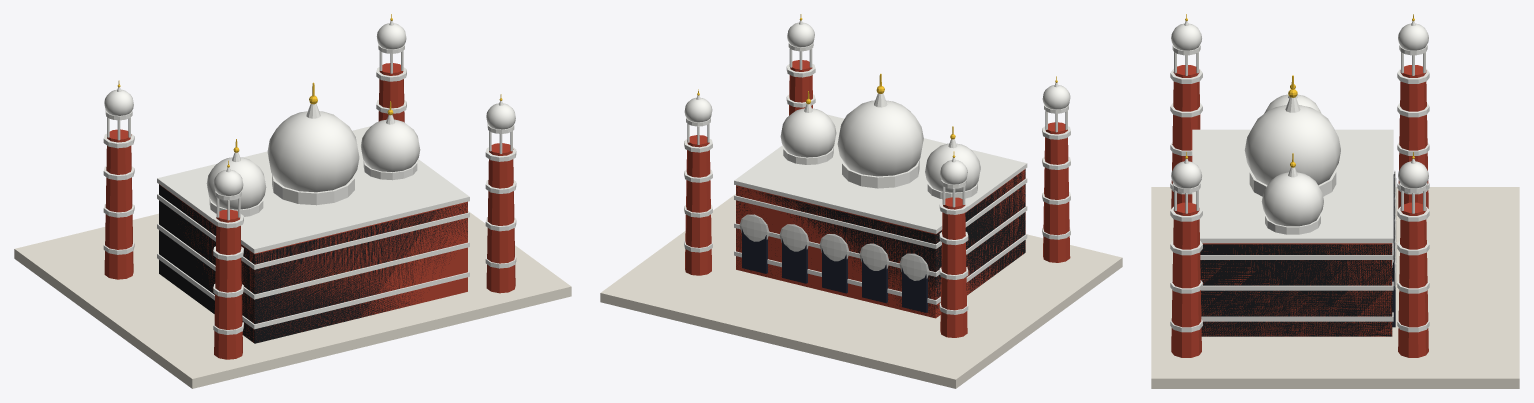
The model's file is env_lm2_masjid_jamek.fbx.
The picture shows the model from 3 angles, left to right: view 1: azimuth 30°, elevation 25°; view 2: azimuth 150°, elevation 25°; view 3: azimuth 270°, elevation 25°; orthographic projection. The views are drawn at different scales.
Visible parts, largest first — view 1: env_lm2_masjid_jamek_geo_LOD0, COL_env_lm2_masjid_jamek; view 2: env_lm2_masjid_jamek_geo_LOD0, COL_env_lm2_masjid_jamek; view 3: env_lm2_masjid_jamek_geo_LOD0, COL_env_lm2_masjid_jamek.
Part boxes in pixels (box(x1,y1,x2,y2)): env_lm2_masjid_jamek_geo_LOD0: box(14, 14, 571, 388); COL_env_lm2_masjid_jamek: box(159, 184, 467, 343); env_lm2_masjid_jamek_geo_LOD0: box(600, 14, 1122, 388); COL_env_lm2_masjid_jamek: box(736, 169, 1025, 316); env_lm2_masjid_jamek_geo_LOD0: box(1151, 14, 1519, 388); COL_env_lm2_masjid_jamek: box(1200, 244, 1392, 336).
Size of what is drawn, in the model's own units: 32 by 16.9 by 26.
